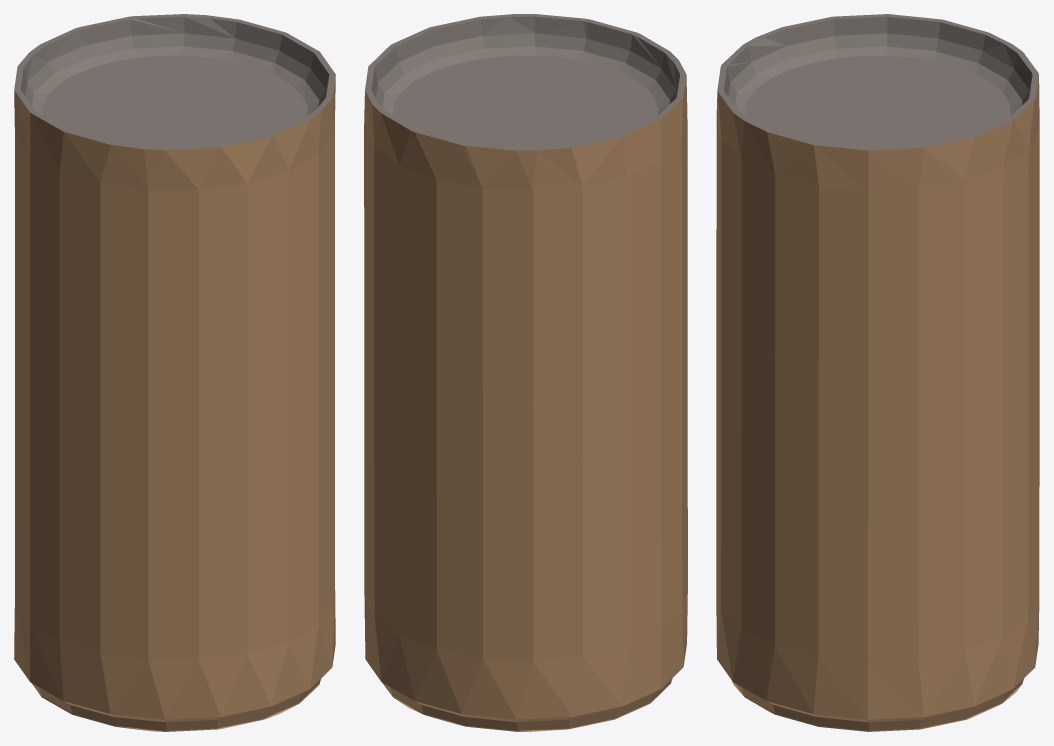
Rendered from cancoffee.dae.
3 renders of one model, left to right at view 1: azimuth 30°, elevation 25°; view 2: azimuth 150°, elevation 25°; view 3: azimuth 270°, elevation 25°, orthographic.
Visible parts, largest first — view 1: Cancoffee; view 2: Cancoffee; view 3: Cancoffee.
Boxes of the visible parts, <box> form: Cancoffee: <box>14,14,335,731</box>; Cancoffee: <box>364,14,687,731</box>; Cancoffee: <box>716,14,1039,731</box>.
Bounding box in the file's own units: 49.96 × 49.96 × 100.
